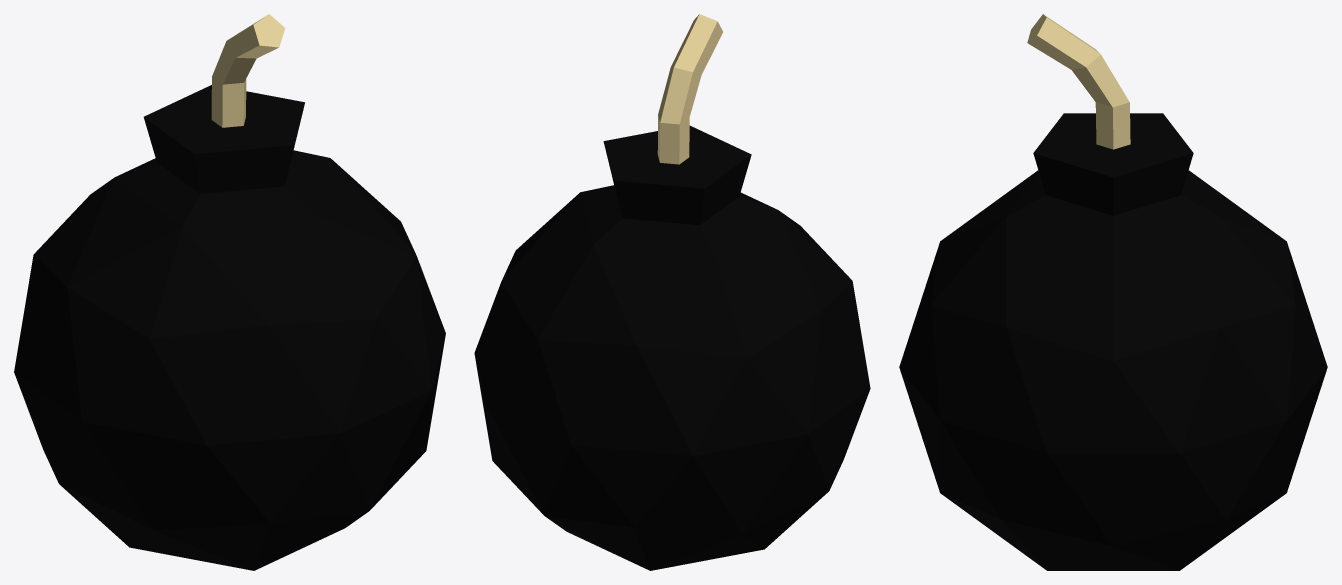
The model's file is bomb.fbx.
The picture shows the model from 3 angles, left to right: view 1: azimuth 30°, elevation 25°; view 2: azimuth 150°, elevation 25°; view 3: azimuth 270°, elevation 25°; orthographic projection. The views are drawn at different scales.
Parts seen in each view (by area): view 1: Icosphere; view 2: Icosphere; view 3: Icosphere.
Part boxes in pixels (x1,y1,x2,y2): Icosphere: (14, 14, 445, 570); Icosphere: (474, 14, 870, 570); Icosphere: (899, 14, 1327, 570).
Size of the model in its own units: 190 by 281 by 200.
